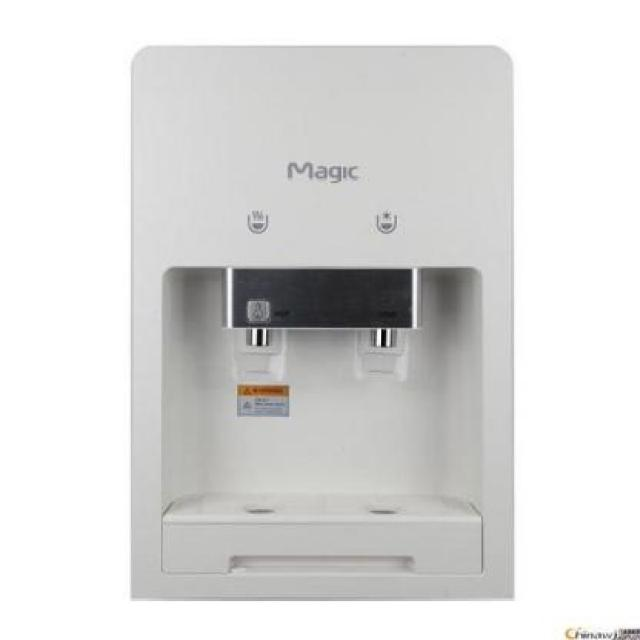cooler: (129, 46, 518, 603)
